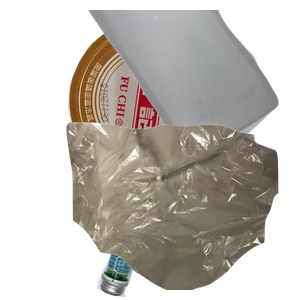glass: (93, 143, 284, 300)
metal: (66, 15, 297, 193)
plastic: (84, 10, 300, 157)
trash: (64, 120, 300, 300)
